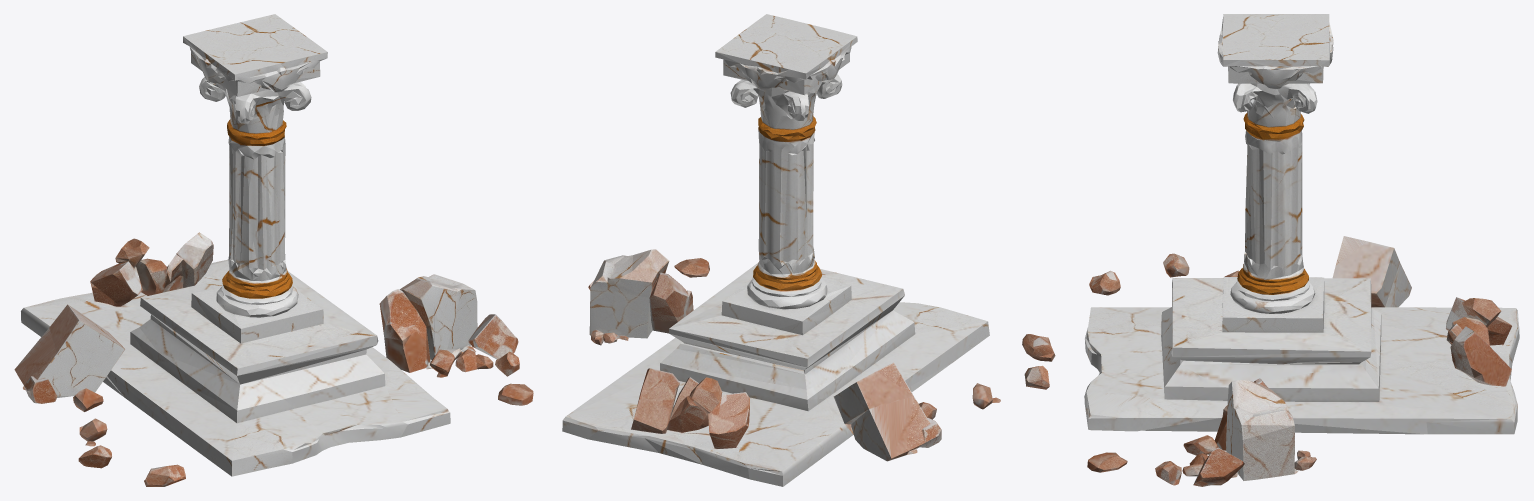
Rendered from broken-column.glb.
The picture shows the model from 3 angles, left to right: view 1: azimuth 30°, elevation 25°; view 2: azimuth 150°, elevation 25°; view 3: azimuth 270°, elevation 25°; orthographic projection. The views are drawn at different scales.
Size of the model in its own units: 1.76 by 1.27 by 1.46.
1 material, 1 textured.
